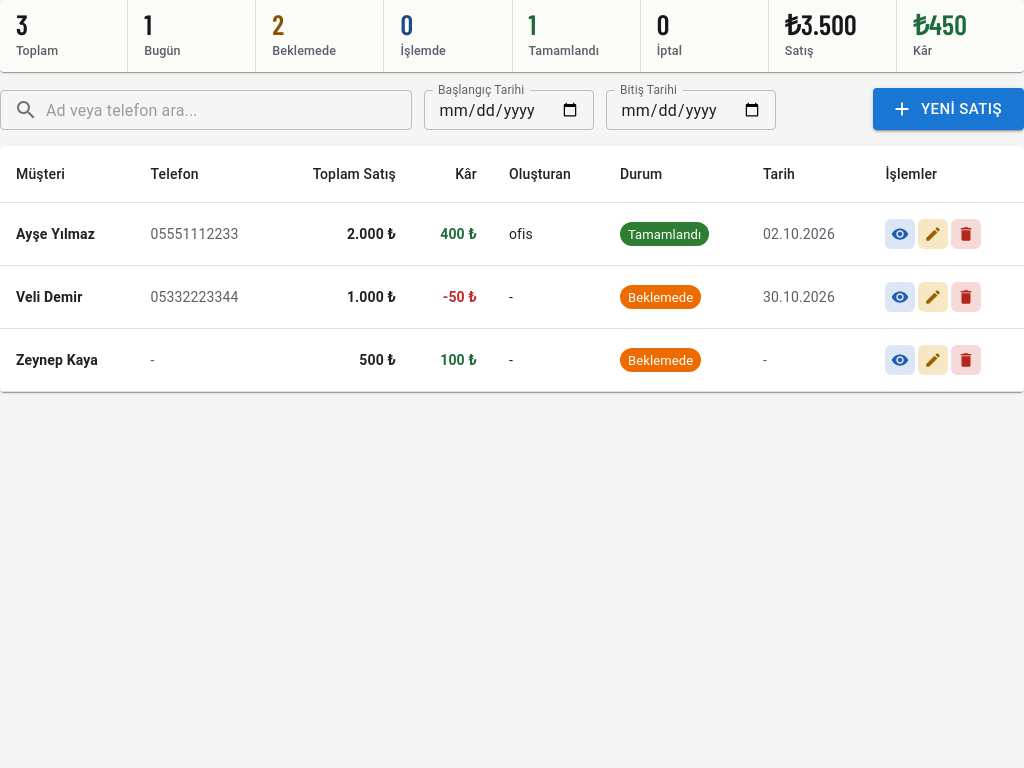
it: Aksesuarlar: satış formu › yeni satış: varsayılanlar; boş formla kaydedilince yük biçimi (kalan ödeme 0, odeme_tamamlandi yük dışı)
Expected: the text "Zeynep Kaya" is shown, [0, 329, 134, 392]
Click the button "Yeni Satış". click: (948, 109)
box: [873, 88, 1023, 130]
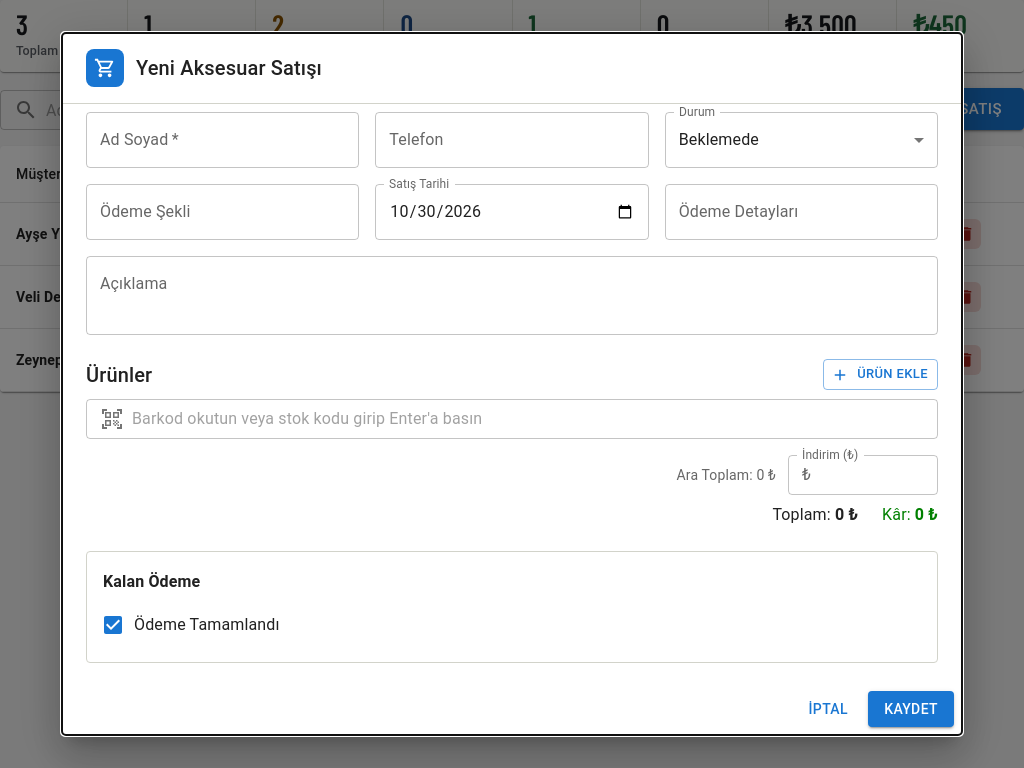
Expected: the text "Yeni Aksesuar Satışı" is shown, [136, 56, 322, 80]
Type "Test" into the dropdown labelled "Ad Soyad *". click: (223, 140)
box: [95, 121, 350, 159]
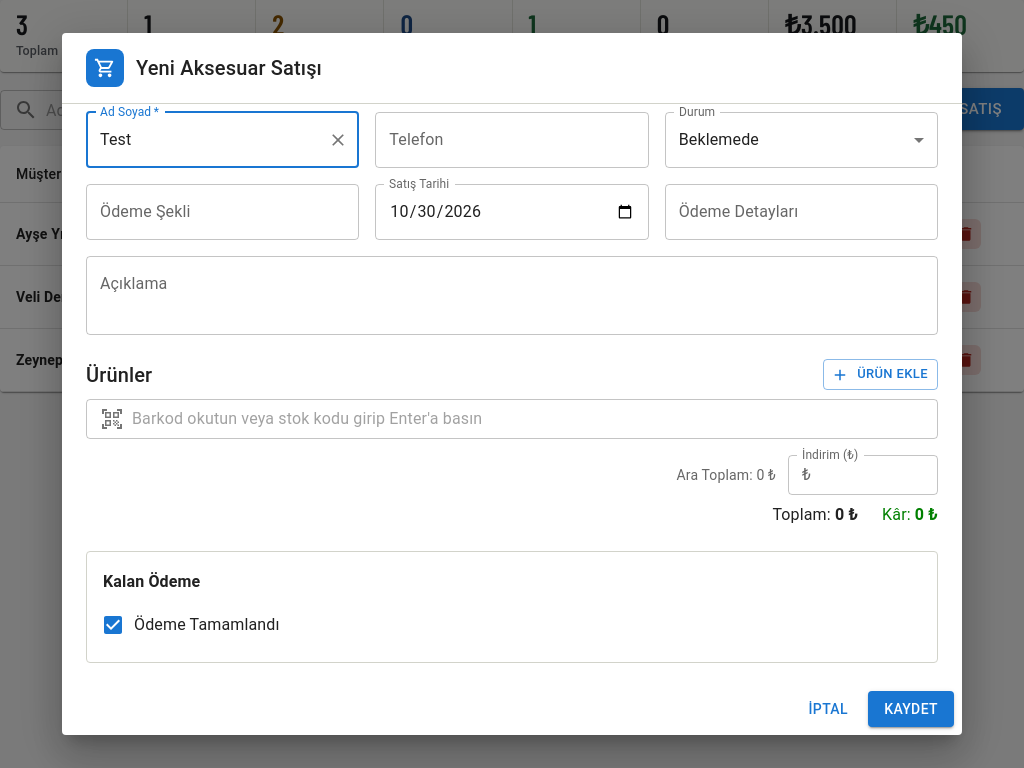
Click the button "Kaydet". click: (911, 709)
box: [868, 691, 954, 727]
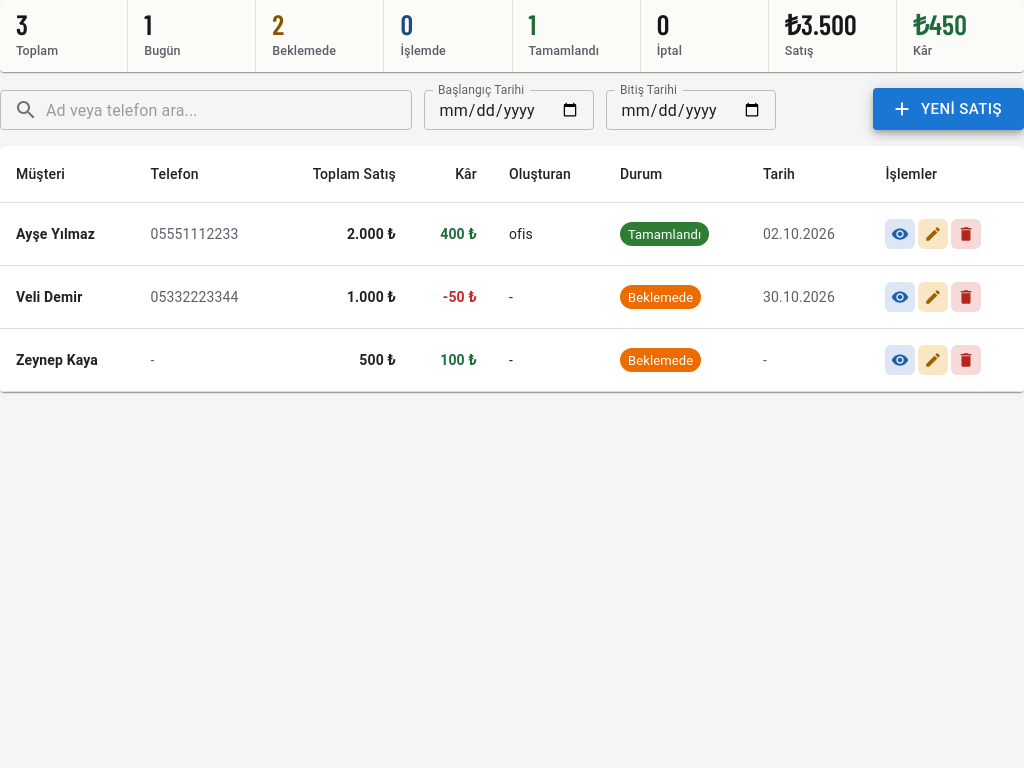
Expected: the dialog is gone
